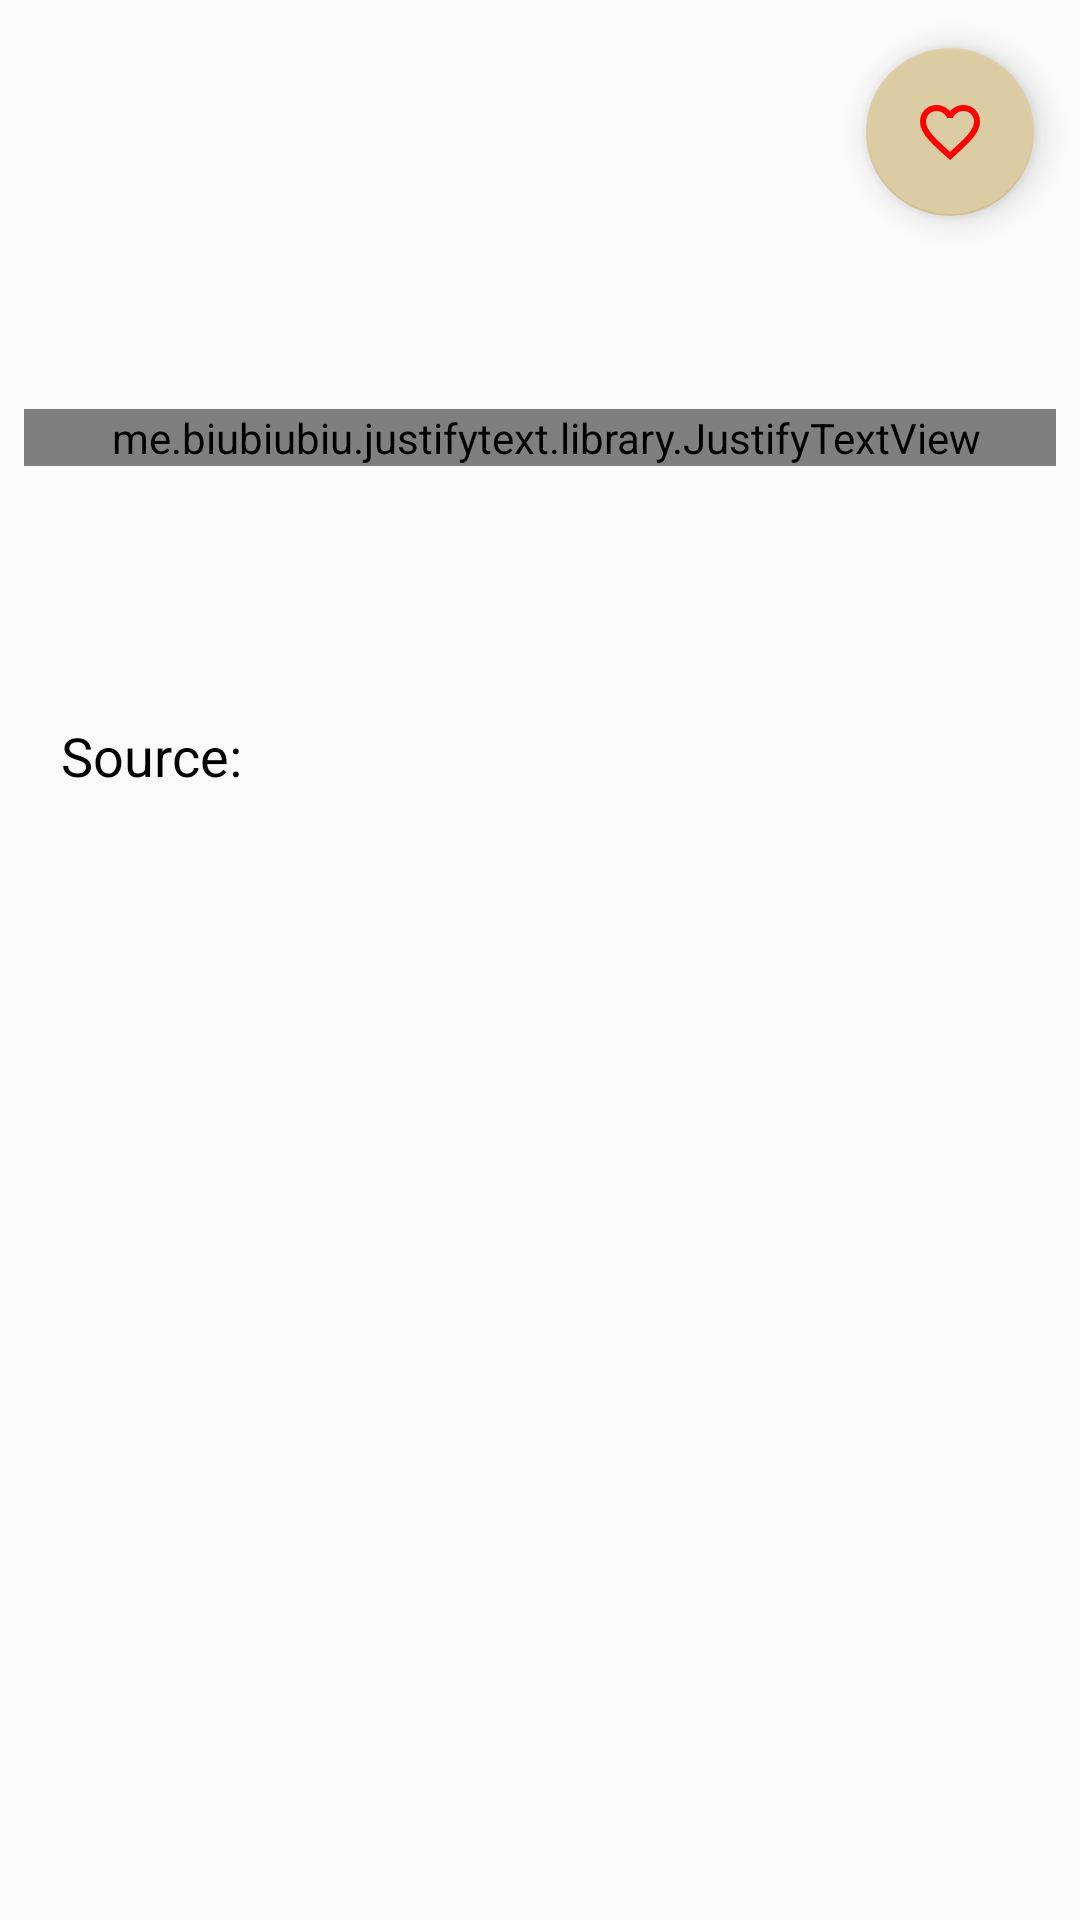

Icon click points for this 1080px x 1920px phone screenshot, format (x=x, y=y):
favorite unfilled: (x=950, y=132)
